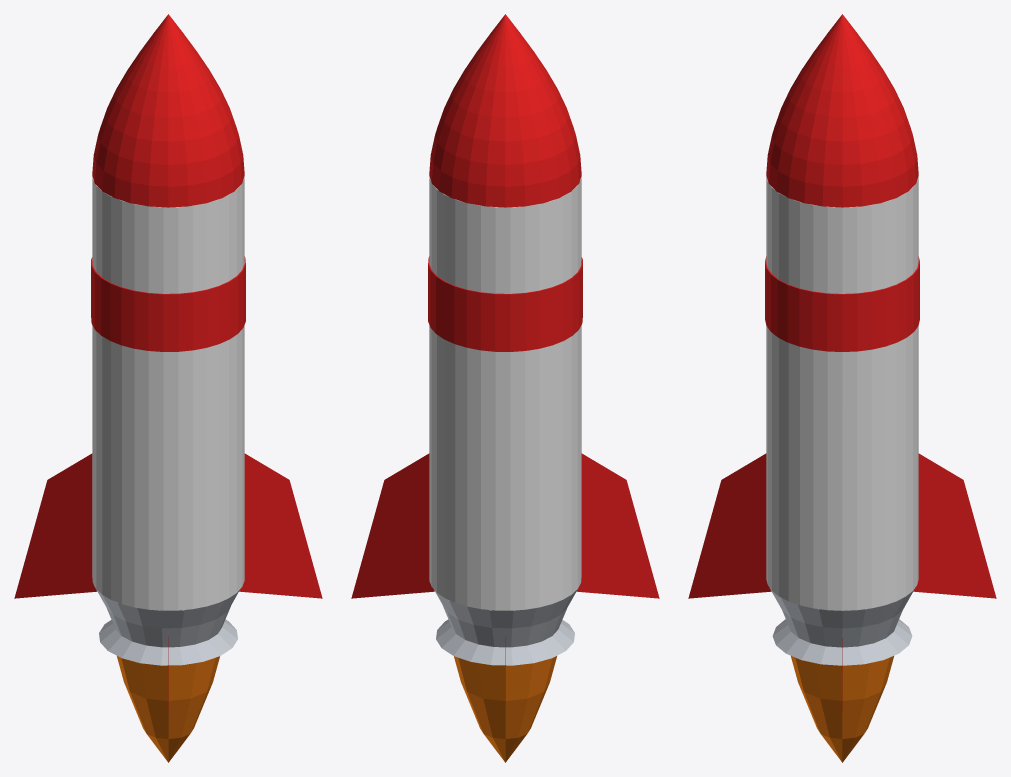
The model's file is Rocket.fbx.
3 renders of one model, left to right at view 1: azimuth 30°, elevation 25°; view 2: azimuth 150°, elevation 25°; view 3: azimuth 270°, elevation 25°, orthographic.
Parts seen in each view (by area): view 1: Body, Nose, Cylinder, Fin0, Fin1, Nozzle, Flame; view 2: Body, Nose, Cylinder, Fin0, Fin2, Nozzle, Flame; view 3: Body, Nose, Cylinder, Fin1, Fin2, Nozzle, Flame.
Boxes of the visible parts, x1,y1,x2,y2 form: Body: (92,176,244,610); Nose: (92,14,244,207); Cylinder: (91,256,245,351); Fin0: (239,453,322,598); Fin1: (14,453,97,598); Nozzle: (94,585,239,665); Flame: (117,656,219,762); Body: (429,176,581,610); Nose: (429,14,581,207); Cylinder: (428,256,582,351); Fin0: (351,453,434,598); Fin2: (576,453,659,598); Nozzle: (434,585,579,665); Flame: (454,656,556,762); Body: (766,176,918,610); Nose: (766,14,918,207); Cylinder: (765,256,919,351); Fin1: (913,453,996,598); Fin2: (688,453,771,598); Nozzle: (770,588,914,665); Flame: (791,656,893,762).
Bounding box in the file's own units: 42 × 130 × 48.5.
4 materials, 4 textured.
